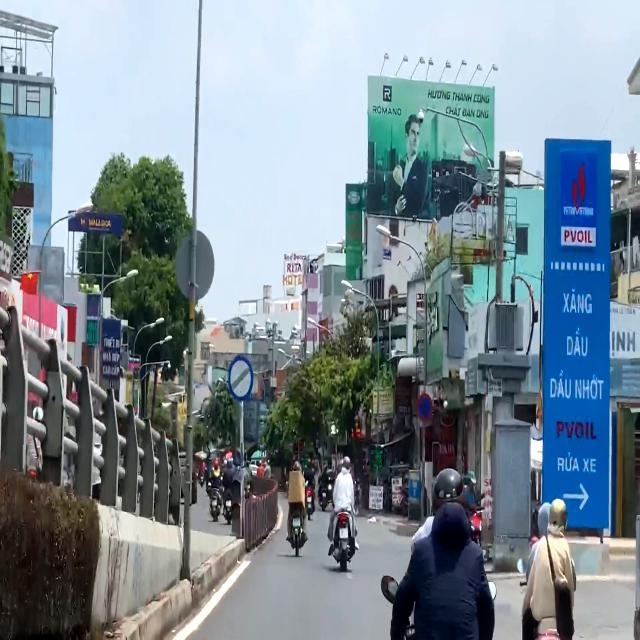bien_cam: (228, 354, 254, 402), (416, 392, 433, 422)
